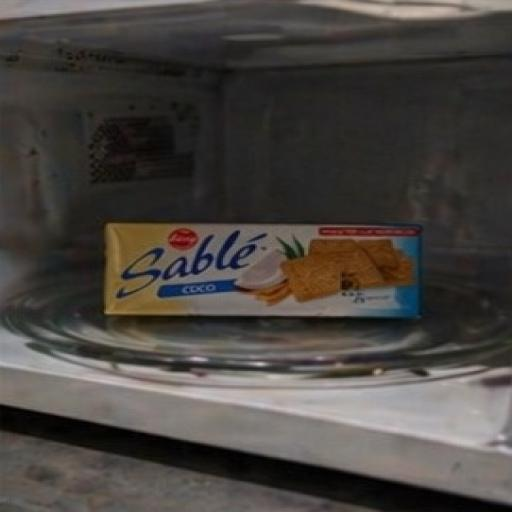sable: (50, 167, 477, 381)
